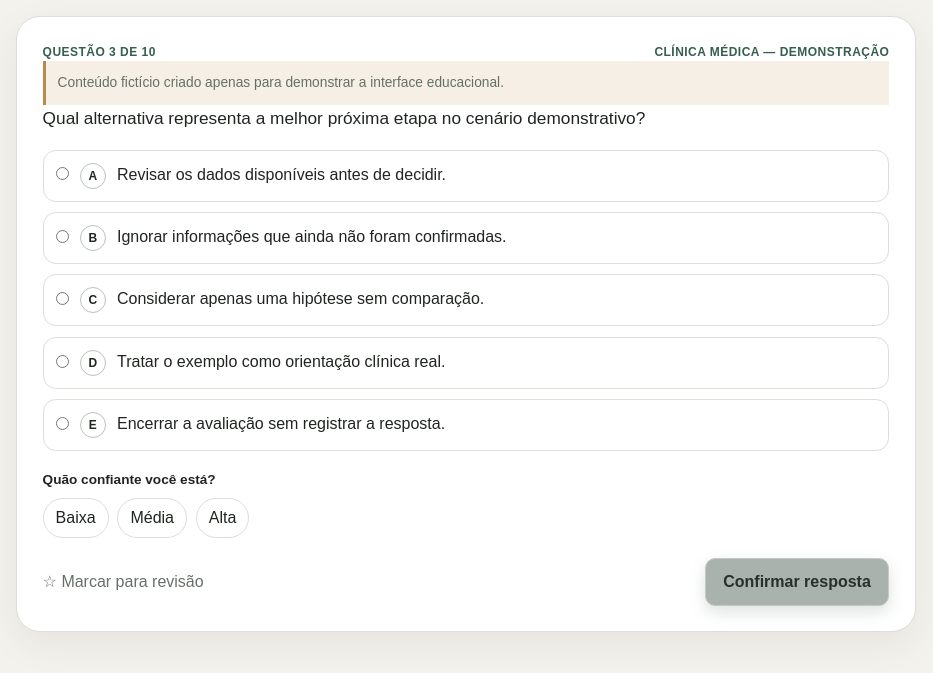
Scenario: QuestionCard › seleciona confiança, marca revisão e bloqueia após confirmar
This screenshot has width=933, height=673.
Click the text "Revisar os dados disponíveis antes de decidir." at (282, 174), box [117,166,446,183]
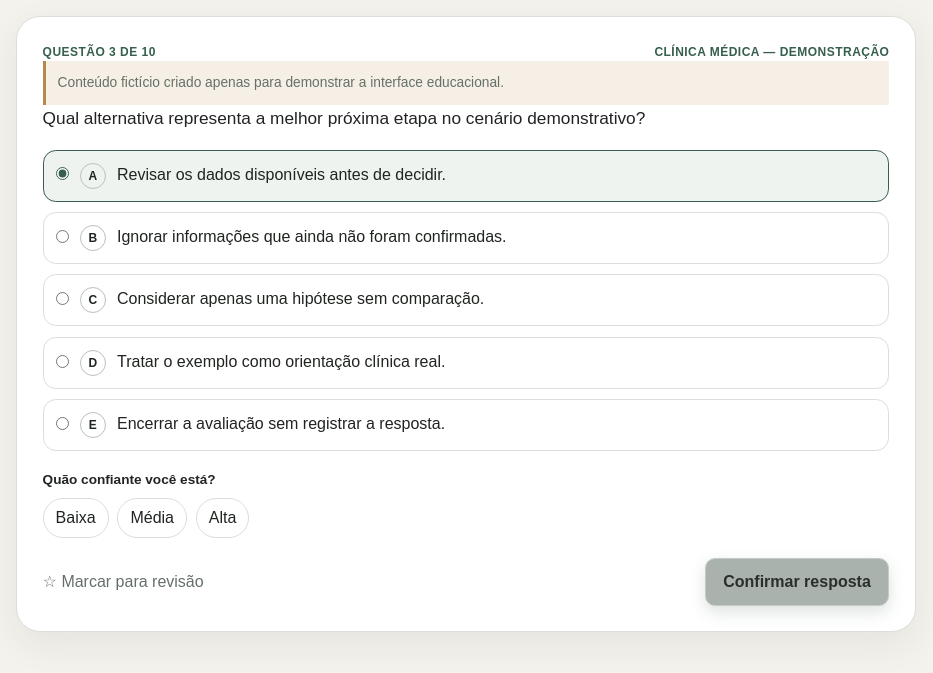
Click the text "Alta" at (223, 518), box [196,498,249,538]
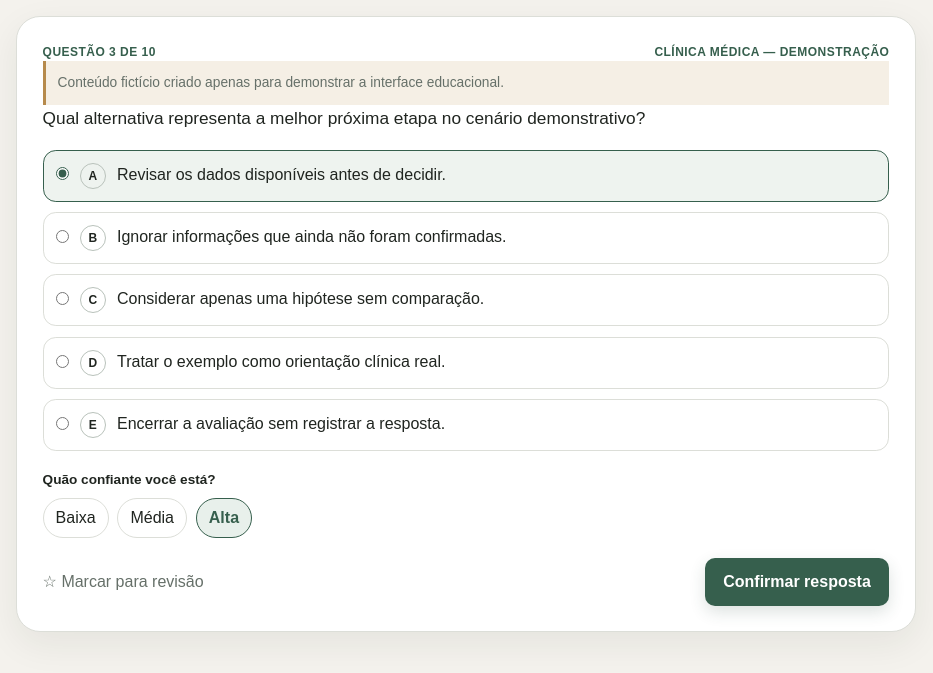
Click the button "☆ Marcar para revisão" at (123, 582), box [43,560,204,604]
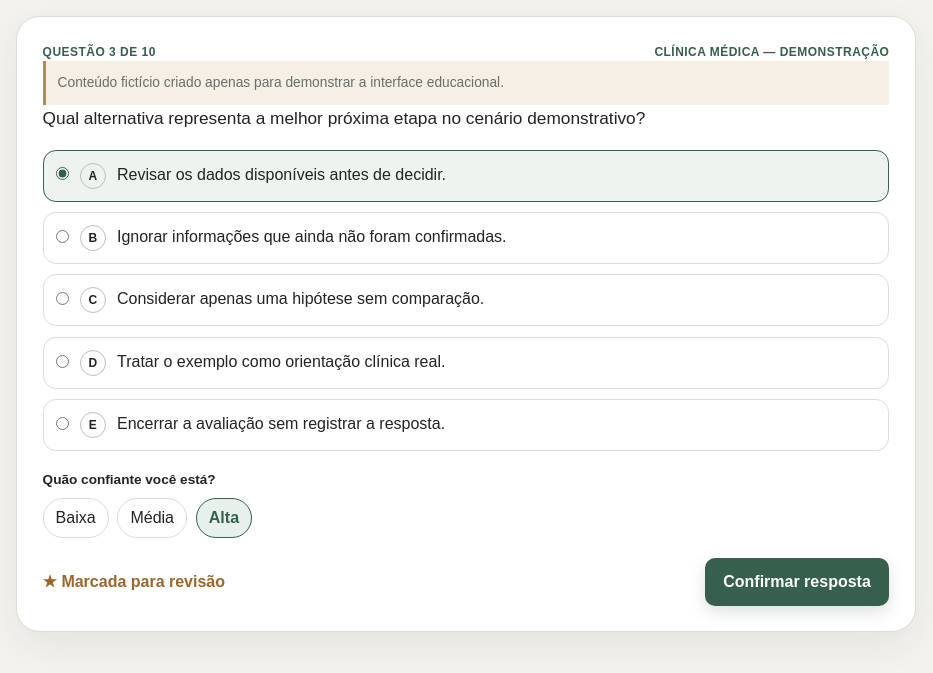
Click the button "Confirmar resposta" at (797, 582), box [705,558,889,606]
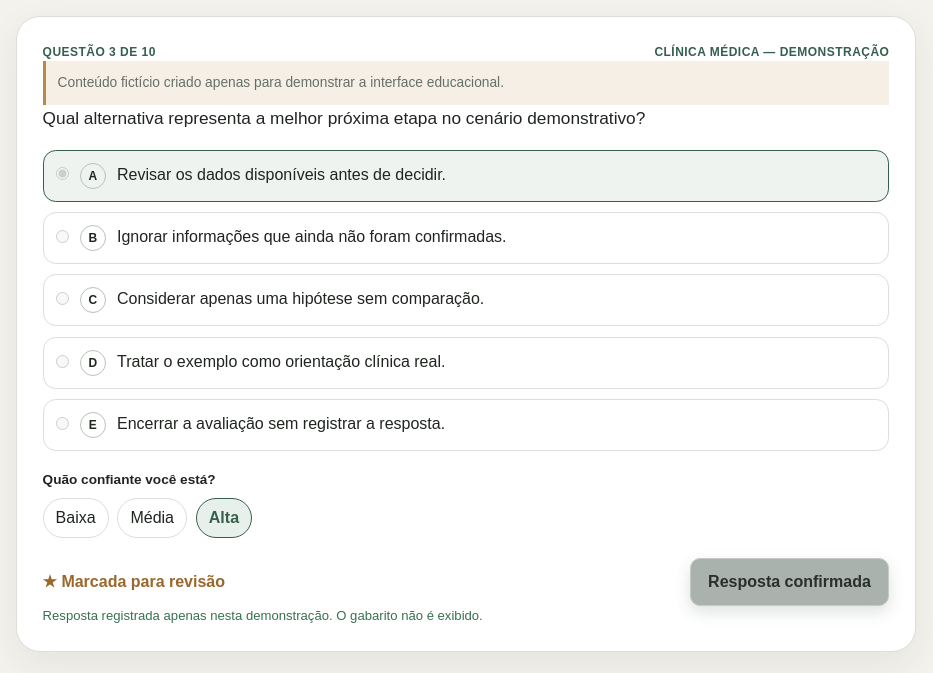
expect the button "Resposta confirmada" is disabled: met, box [690,558,889,606]
